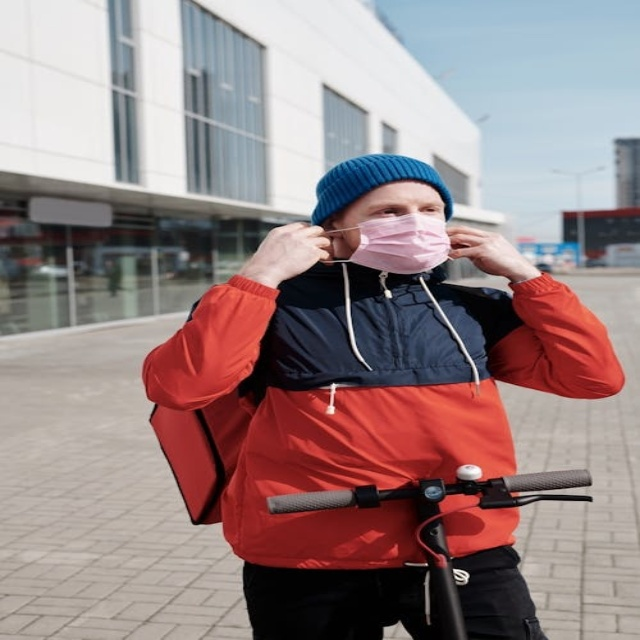Mascara: (340, 212, 452, 273)
Sin_gafas: (353, 196, 445, 219)
Sin_guantes: (244, 216, 333, 282), (442, 223, 532, 276)
